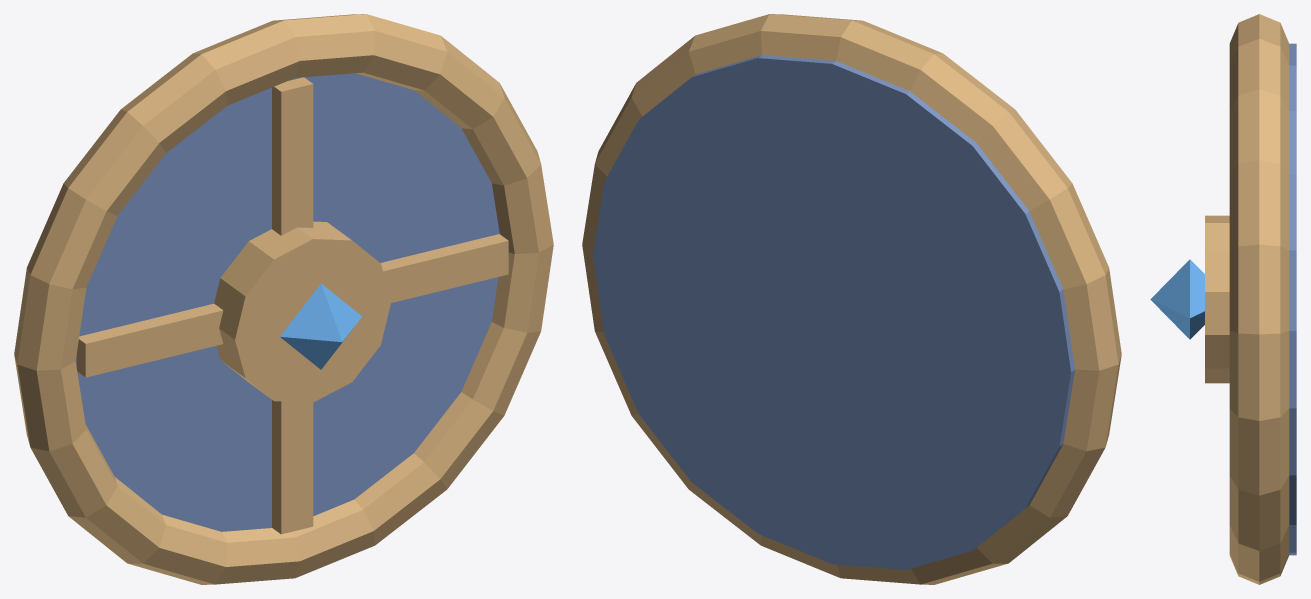
Rendered from shield-bronze.glb.
The picture shows the model from 3 angles, left to right: view 1: azimuth 30°, elevation 25°; view 2: azimuth 150°, elevation 25°; view 3: azimuth 270°, elevation 25°; orthographic projection. The views are drawn at different scales.
Size of the model in its own units: 1.16 by 1.16 by 0.295.
